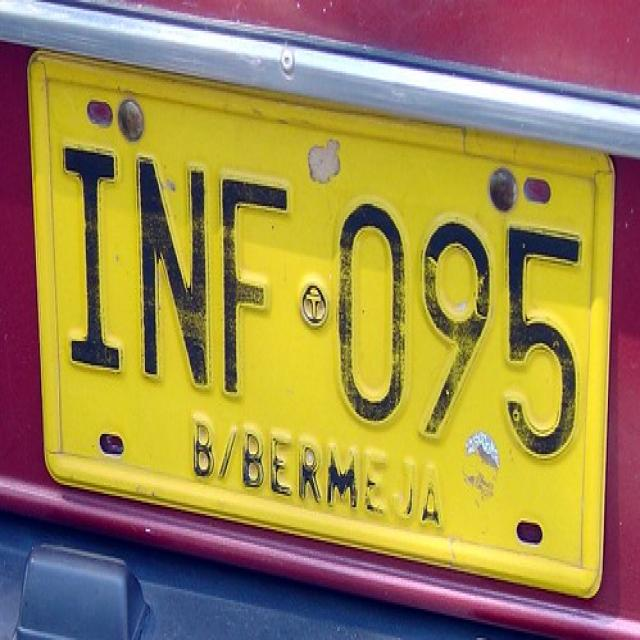placas: (61, 119, 586, 480)
